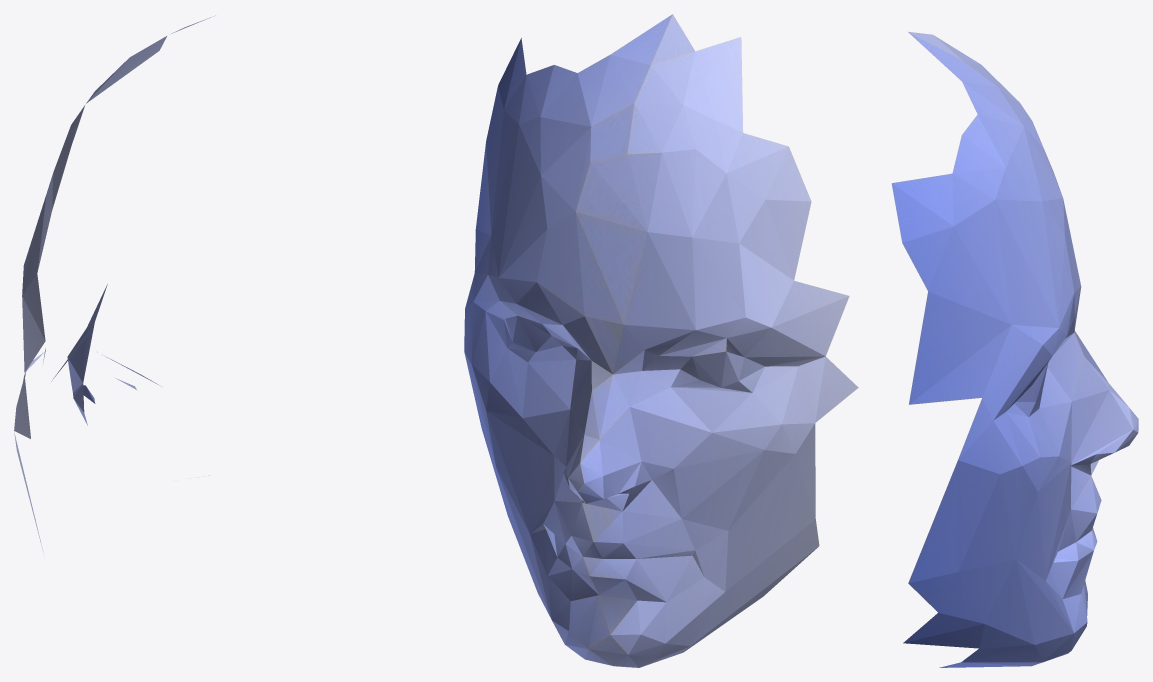
Rendered from cabezaCelularPortal.glb.
The picture shows the model from 3 angles, left to right: view 1: azimuth 30°, elevation 25°; view 2: azimuth 150°, elevation 25°; view 3: azimuth 270°, elevation 25°; orthographic projection. The views are drawn at different scales.
Visible parts, largest first — view 1: cabeza_celular_portal:Mesh; view 2: cabeza_celular_portal:Mesh; view 3: cabeza_celular_portal:Mesh.
Part boxes in pixels (left/top/right/bottom): cabeza_celular_portal:Mesh: left=14, top=15, right=215, bottom=552; cabeza_celular_portal:Mesh: left=464, top=14, right=858, bottom=667; cabeza_celular_portal:Mesh: left=891, top=31, right=1138, bottom=667.
Bounding box in the file's own units: 0.1598 × 0.245 × 0.0892.
Materials: 1 (1 with a texture image).
